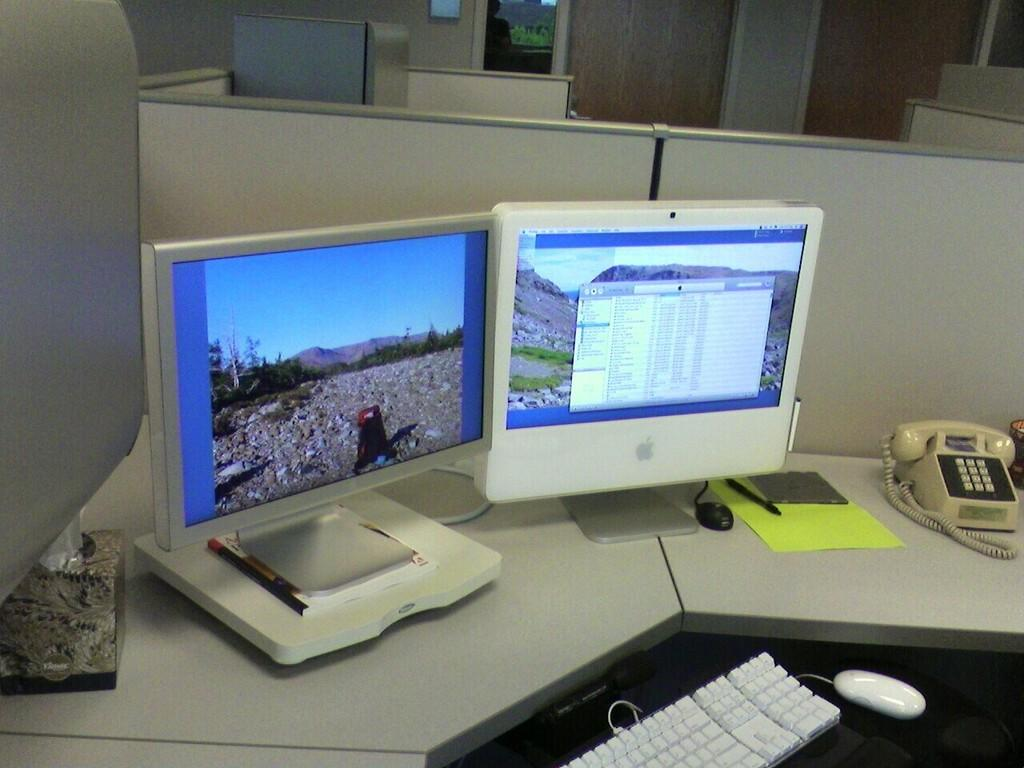Computer-keyboard: (554, 651, 837, 767)
Computer-monitor: (134, 208, 500, 602), (470, 198, 820, 552)
